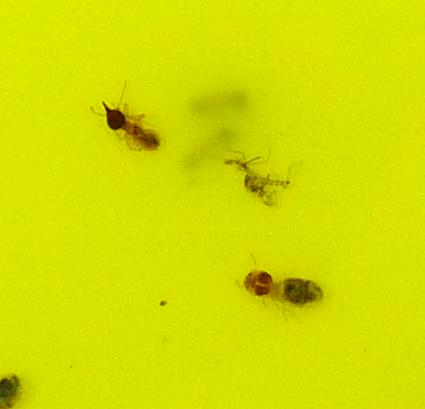Isoptera: (241, 268, 325, 309), (100, 100, 163, 153)
Nematocera: (223, 157, 290, 206)
